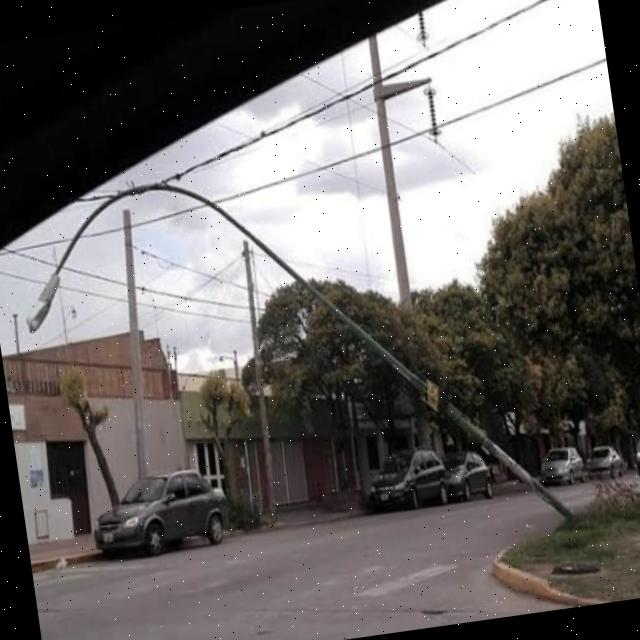Broken Pole: (28, 184, 578, 521)
